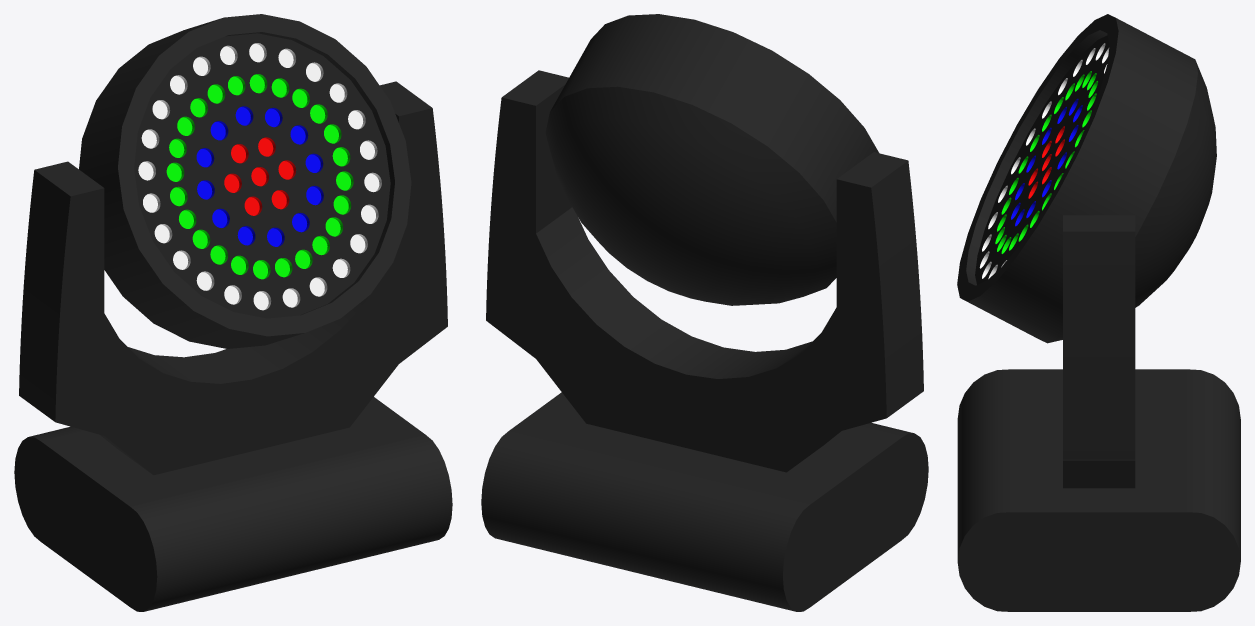
The model's file is moving head.dae.
The picture shows the model from 3 angles, left to right: view 1: azimuth 30°, elevation 25°; view 2: azimuth 150°, elevation 25°; view 3: azimuth 270°, elevation 25°; orthographic projection. The views are drawn at different scales.
Visible parts, largest first — view 1: group_2 (×3), group_1, group_4; view 2: group_1, group_2, group_4; view 3: group_4, group_2 (×3), group_1.
Boxes of the visible parts, x1,y1,x2,y2 form: group_2 (×3): (79, 14, 411, 348); group_1: (19, 81, 447, 475); group_4: (14, 397, 452, 611); group_1: (486, 70, 923, 472); group_2: (545, 14, 878, 305); group_4: (481, 392, 928, 611); group_4: (957, 369, 1240, 611); group_2 (×3): (957, 14, 1216, 343); group_1: (1063, 215, 1135, 488).
Size of the model in its own units: 15.21 by 9.6 by 19.03.
